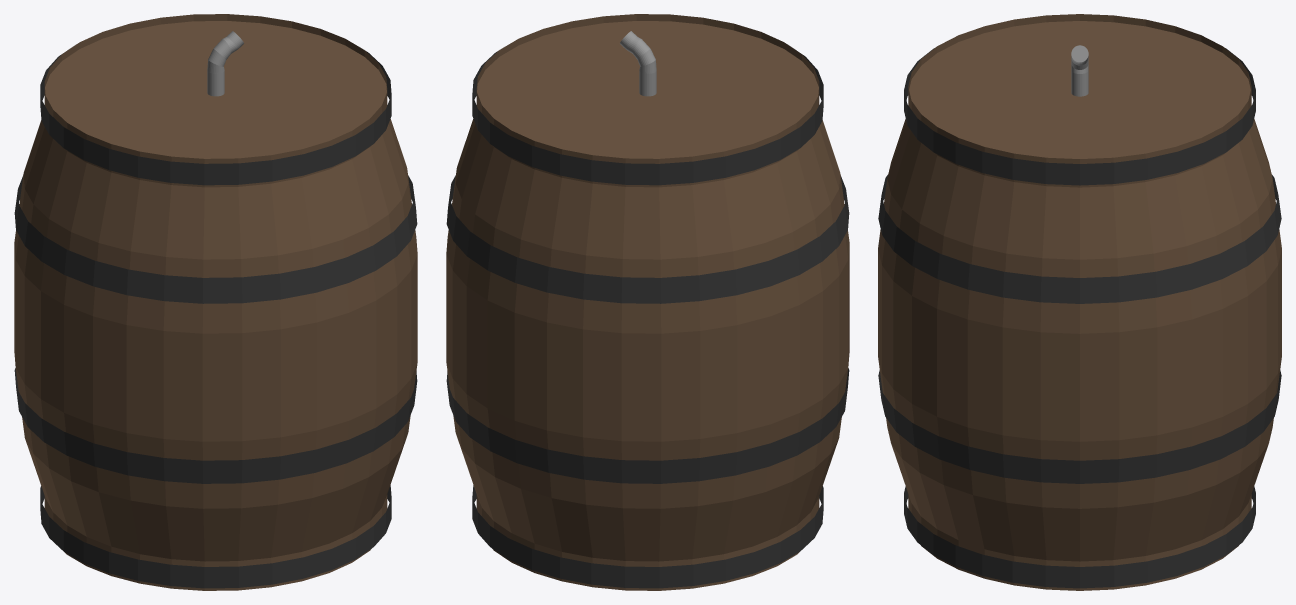
File: barrel.fbx
3 renders of one model, left to right at view 1: azimuth 30°, elevation 25°; view 2: azimuth 150°, elevation 25°; view 3: azimuth 270°, elevation 25°, orthographic.
Visible parts, largest first — view 1: barrel, the black part, the thing; view 2: barrel, the black part, the thing; view 3: barrel, the black part, the thing.
Boxes of the visible parts, <box> form: barrel: <box>14,14,417,590</box>; the black part: <box>14,49,417,588</box>; the thing: <box>207,31,243,96</box>; barrel: <box>446,14,849,590</box>; the black part: <box>446,49,849,588</box>; the thing: <box>620,31,656,96</box>; barrel: <box>878,14,1281,590</box>; the black part: <box>878,48,1281,588</box>; the thing: <box>1071,45,1088,96</box>.
Bounding box in the file's own units: 235 × 310 × 235.
